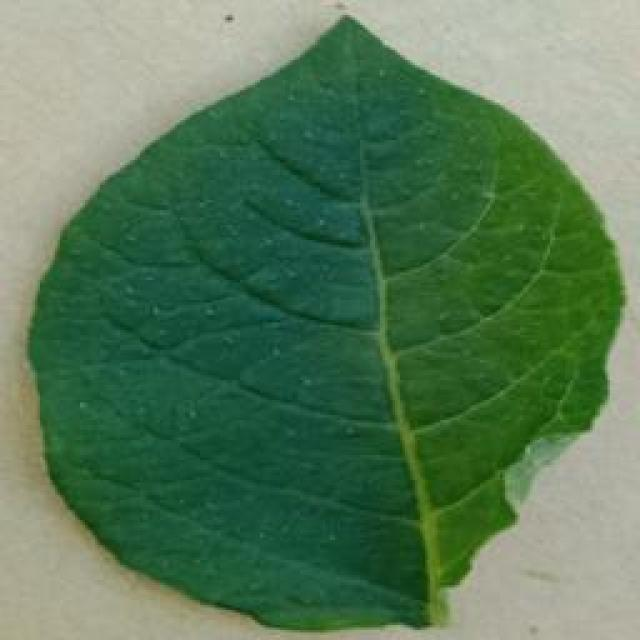Potato_Healthy: (25, 10, 618, 628)
